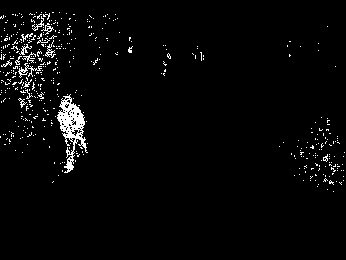person: (58, 93, 88, 173)
